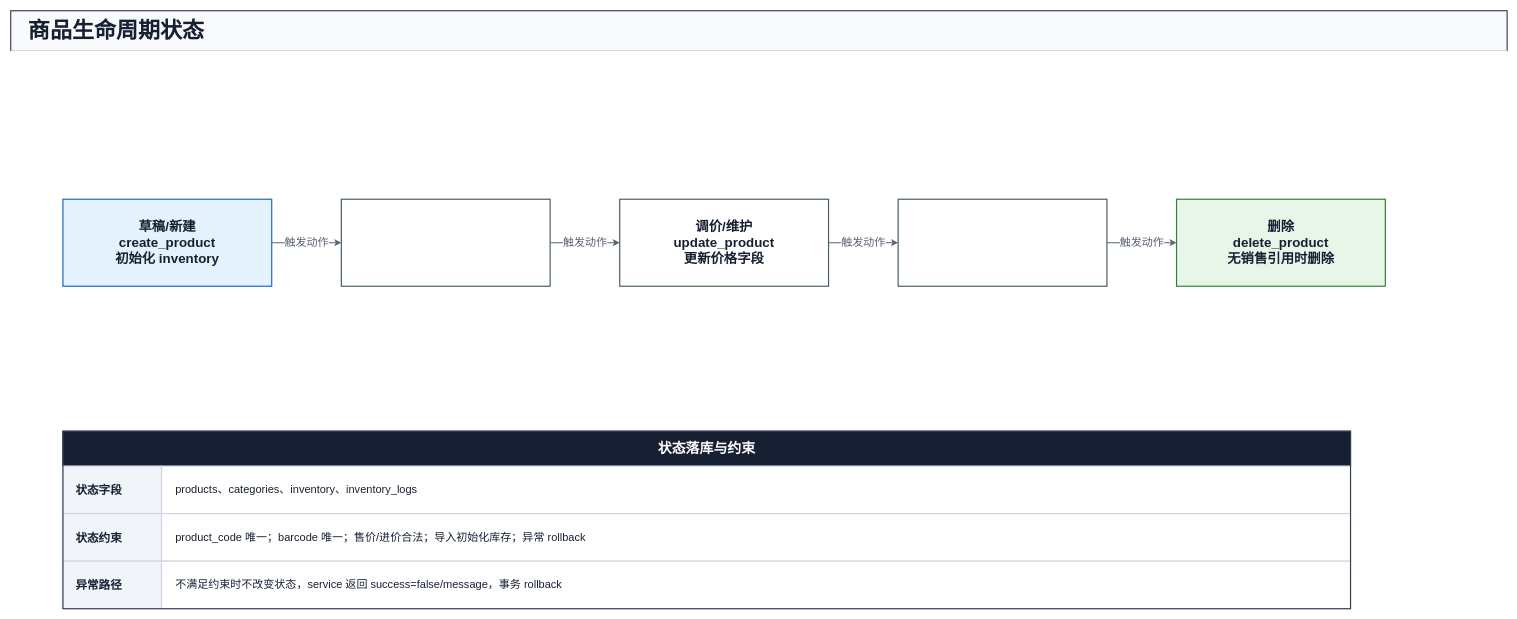
Image size: 1517x619. Some labels were removed from this diagram. The box of each missing label's shape, as (x1, y1, x2, y2) in pixels:
上架 status=1 可被收银检索: (340, 198, 550, 287)
下架 offline_product status=0: (897, 198, 1107, 287)
状态图｜状态、触发动作、持久化字段: (10, 50, 1507, 75)
